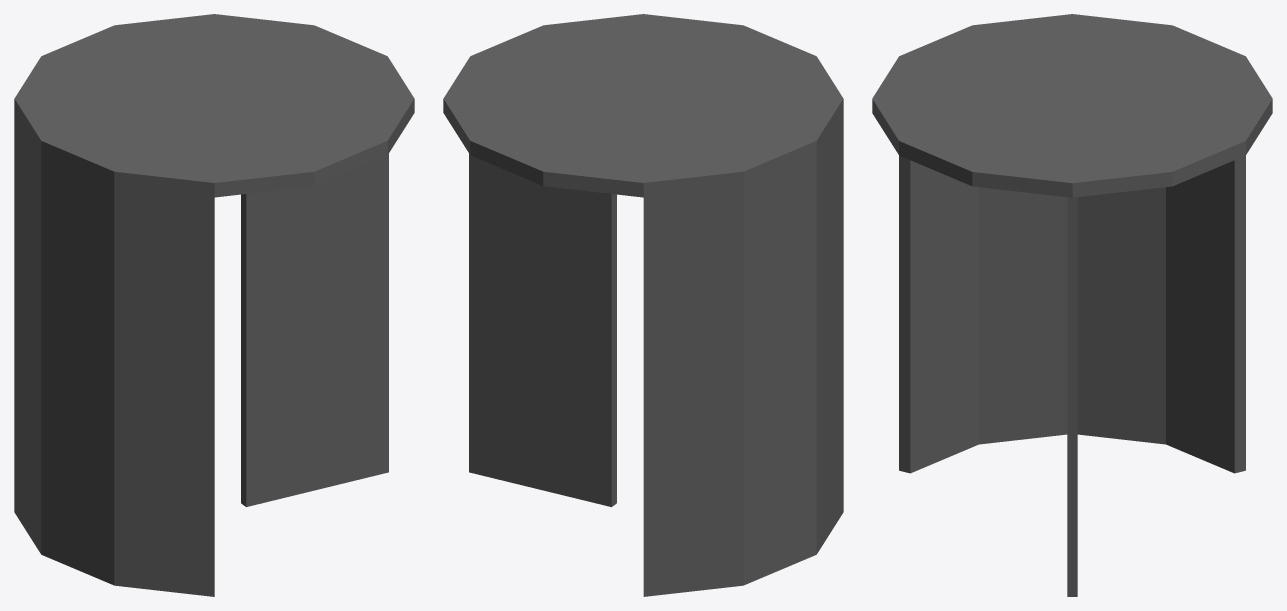
File: SW_ENV_Turnstile_Cage_Collision.fbx
3 renders of one model, left to right at view 1: azimuth 30°, elevation 25°; view 2: azimuth 150°, elevation 25°; view 3: azimuth 270°, elevation 25°, orthographic.
Parts seen in each view (by area): view 1: SW_ENV_Turnstile_Cage_Collision; view 2: SW_ENV_Turnstile_Cage_Collision; view 3: SW_ENV_Turnstile_Cage_Collision.
Boxes of the visible parts, left/top/right/bottom form: SW_ENV_Turnstile_Cage_Collision: left=14, top=14, right=414, bottom=596; SW_ENV_Turnstile_Cage_Collision: left=443, top=14, right=843, bottom=596; SW_ENV_Turnstile_Cage_Collision: left=872, top=14, right=1272, bottom=596.
Bounding box in the file's own units: 2.5 × 2.85 × 2.5.
